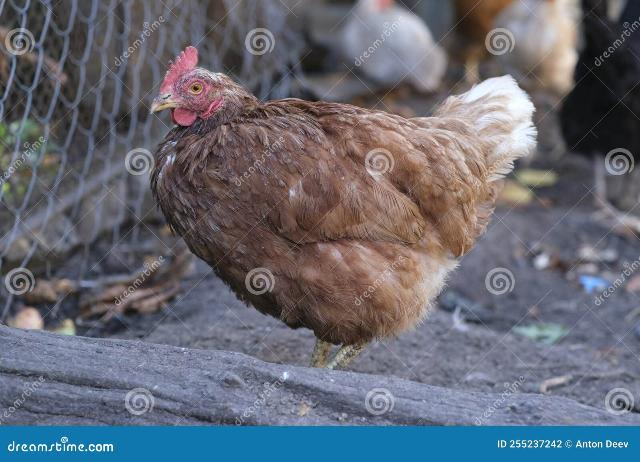Chicken: (150, 44, 538, 366)
